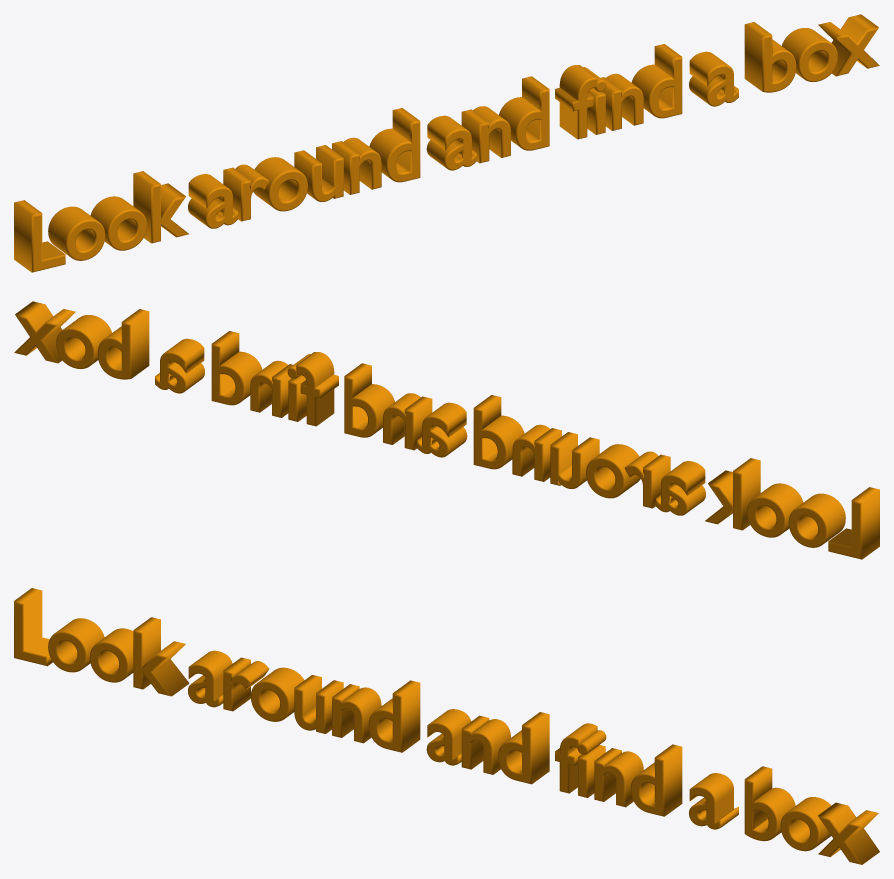
Rendered from Place_Object.glb.
The picture shows the model from 3 angles, top to bottom: view 1: azimuth 30°, elevation 25°; view 2: azimuth 150°, elevation 25°; view 3: azimuth 330°, elevation 25°; orthographic projection.
Parts seen in each view (by area): view 1: Text; view 2: Text; view 3: Text.
Boxes of the visible parts, x1,y1,x2,y2 form: Text: [14, 14, 879, 272]; Text: [14, 301, 879, 559]; Text: [14, 588, 879, 864].
Bounding box in the file's own units: 5.62 × 0.3702 × 0.22.
